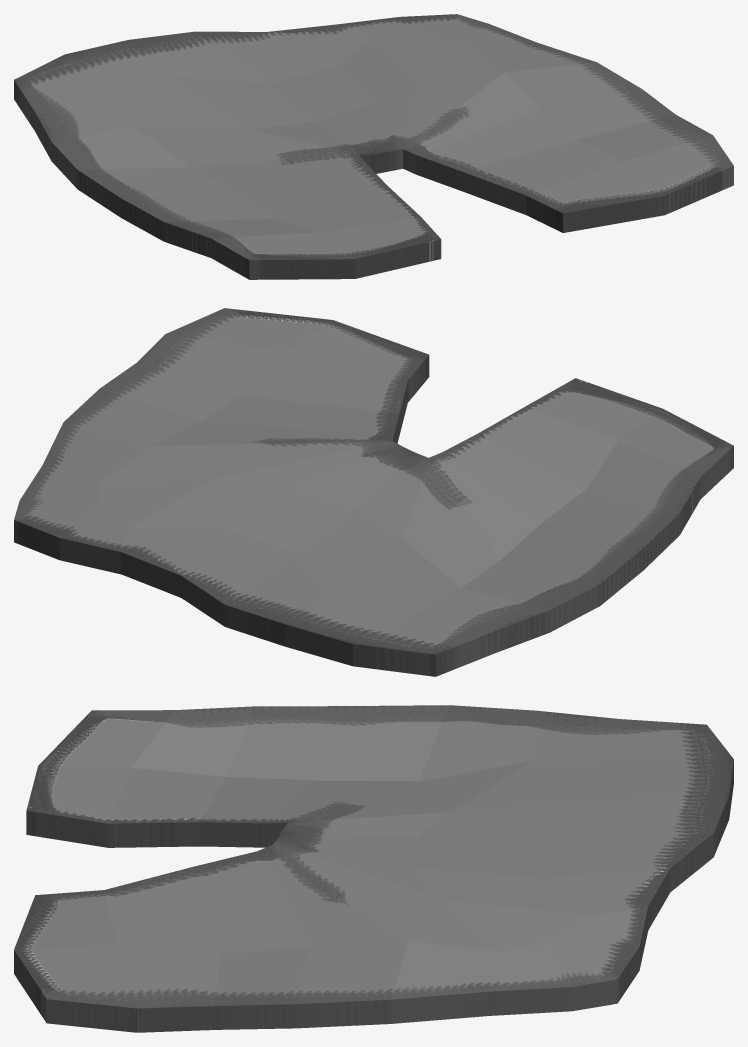
The model's file is Boxers.fbx.
3 views of the same model, one above another, from view 1: azimuth 30°, elevation 25°; view 2: azimuth 150°, elevation 25°; view 3: azimuth 270°, elevation 25° (orthographic). The views are drawn at different scales.
Visible parts, largest first — view 1: Boxers; view 2: Boxers; view 3: Boxers.
Boxes of the visible parts, <box> form: Boxers: <box>14,14,733,279</box>; Boxers: <box>14,308,733,676</box>; Boxers: <box>14,705,733,1032</box>.
Size of the model in its own units: 211 by 16.01 by 209.
